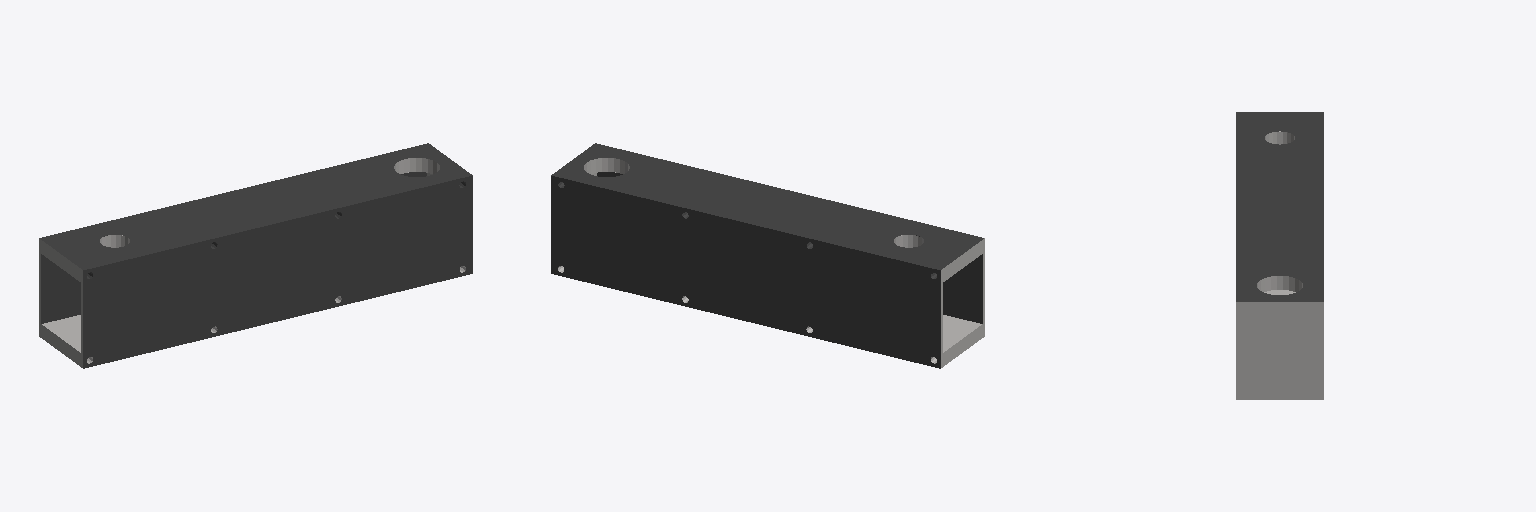
File: elbow.obj
The picture shows the model from 3 angles: view 1: azimuth 30°, elevation 25°; view 2: azimuth 150°, elevation 25°; view 3: azimuth 270°, elevation 25°; orthographic projection.
Visible parts, largest first — view 1: Solid1; view 2: Solid1; view 3: Solid1.
Part boxes in pixels (x1,y1,x2,y2): Solid1: (39,143,472,368); Solid1: (551,143,984,368); Solid1: (1236,112,1323,399).
Size of the model in its own units: 11.42 by 2.76 by 2.24.